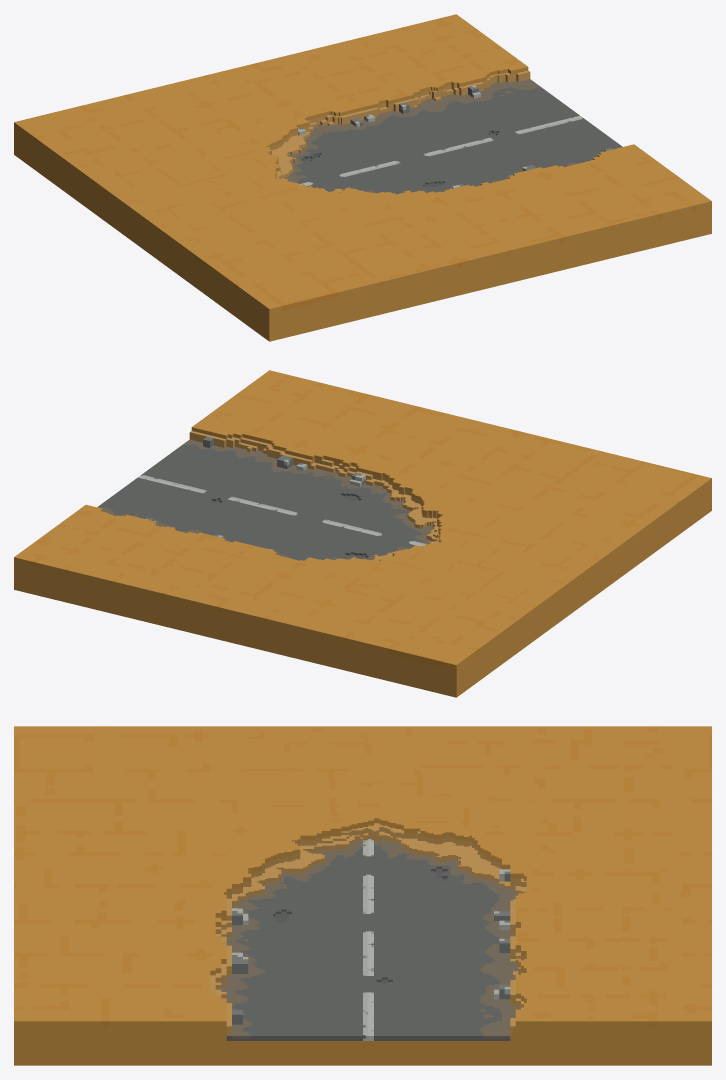
The model's file is final_road.fbx.
The picture shows the model from 3 angles, top to bottom: view 1: azimuth 30°, elevation 25°; view 2: azimuth 150°, elevation 25°; view 3: azimuth 270°, elevation 25°; orthographic projection. The views are drawn at different scales.
Parts seen in each view (by area): view 1: ObjObject.002; view 2: ObjObject.002; view 3: ObjObject.002.
Part boxes in pixels (x1,y1,x2,y2): ObjObject.002: [14, 14, 711, 341]; ObjObject.002: [14, 370, 711, 697]; ObjObject.002: [14, 726, 711, 1065].
Bounding box in the file's own units: 2560 × 190 × 2560.
1 material, 1 textured.
